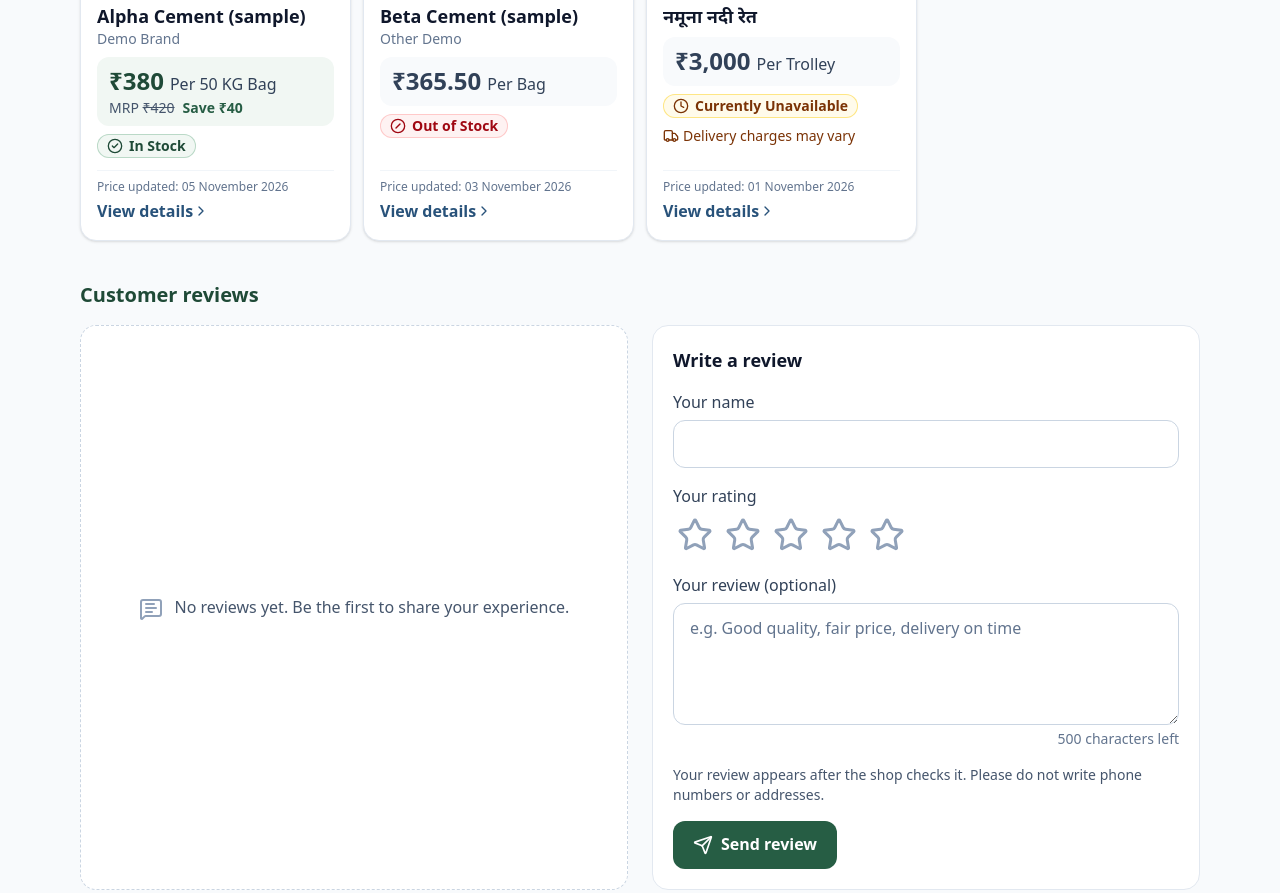
Shop photo, gallery and reviews below the products › explains when a review cannot be sent
(page scrolled)
In the field labelled "Your name": (926, 444) [673, 420, 1179, 468], type "Sample"
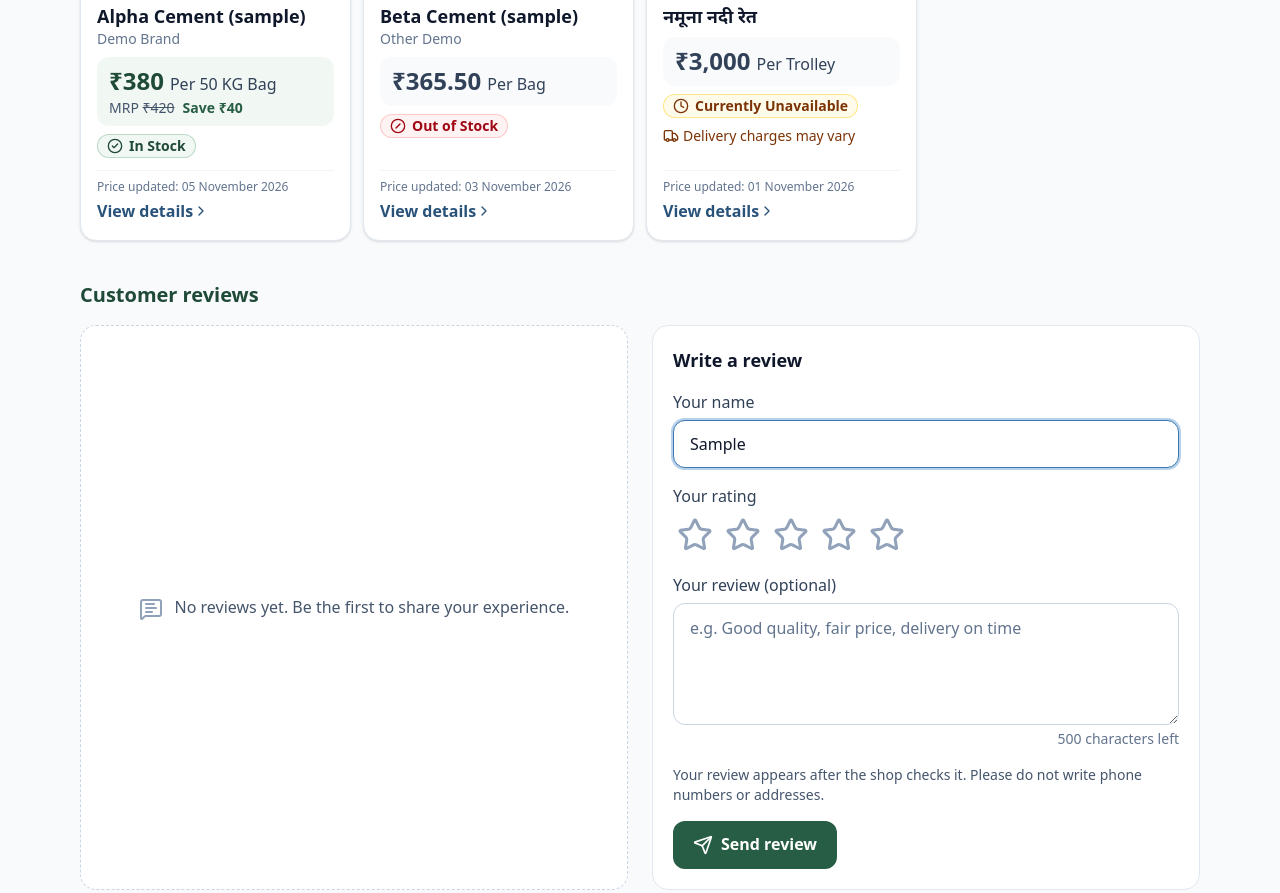
Click the radio button named "5 stars": click(887, 535) [865, 513, 909, 557]
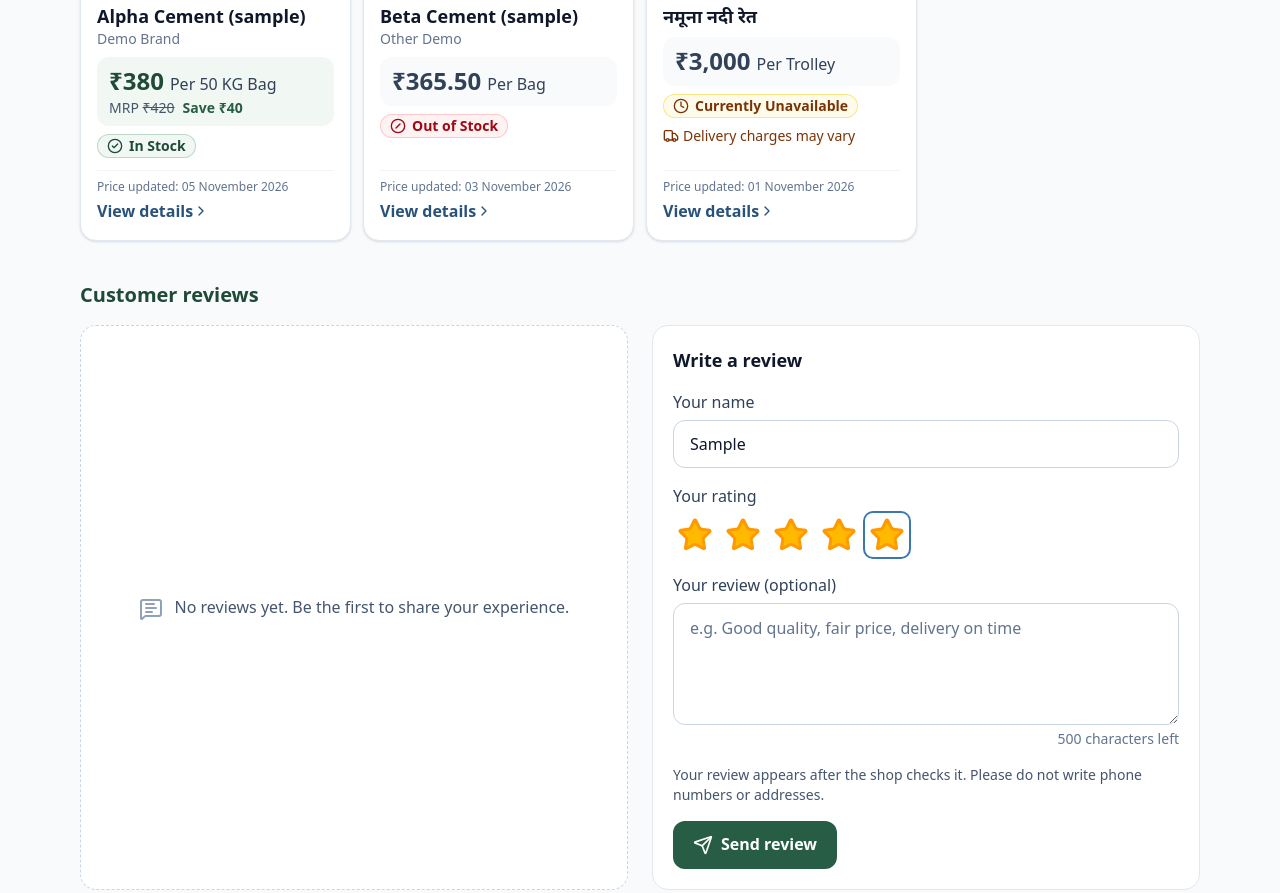
Click the button "Send review": click(755, 845) [673, 821, 837, 869]
(page scrolled)
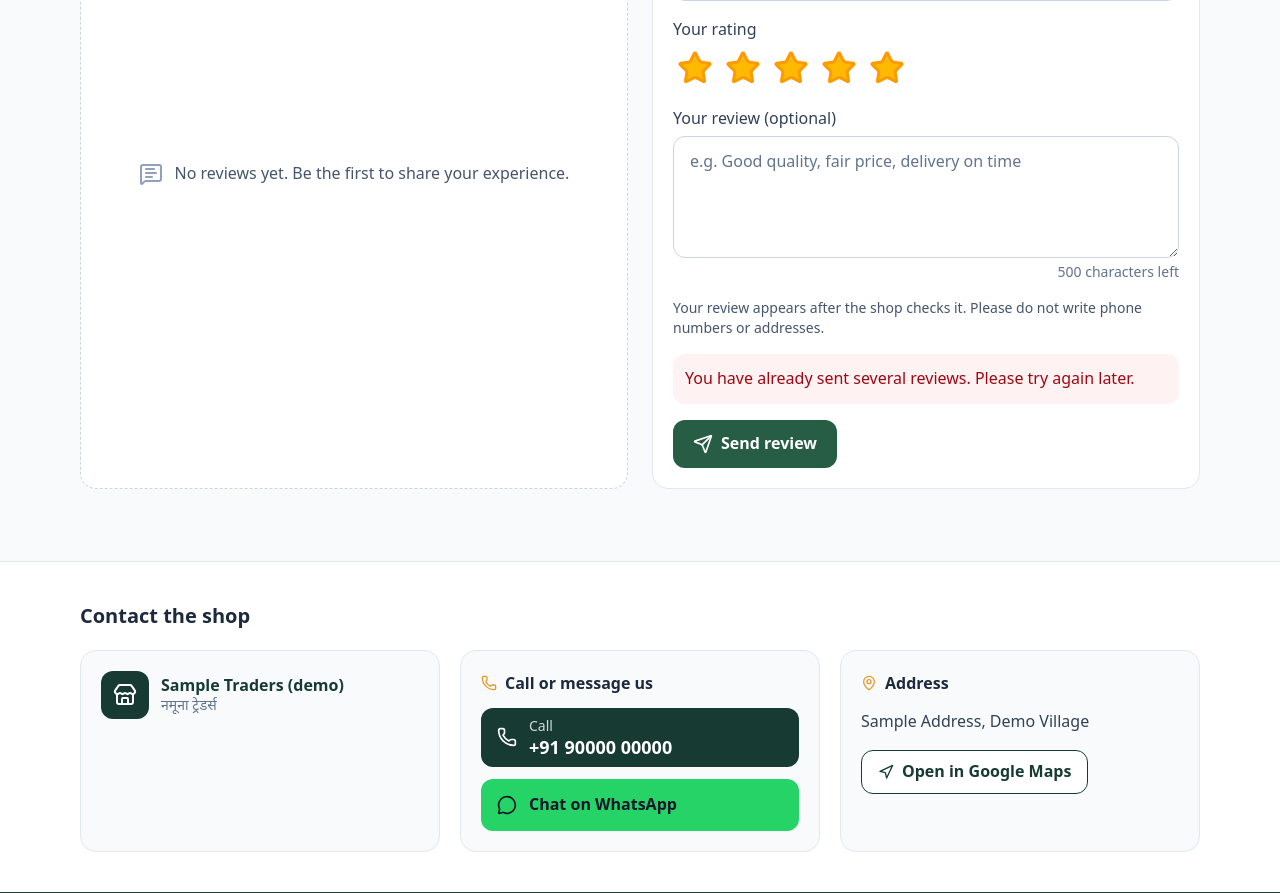
Result: the message reads "You have already sent several reviews. Please try again later." at [685, 367, 1134, 389]
Click the button "Send review": click(755, 444) [673, 420, 837, 468]
(page scrolled)
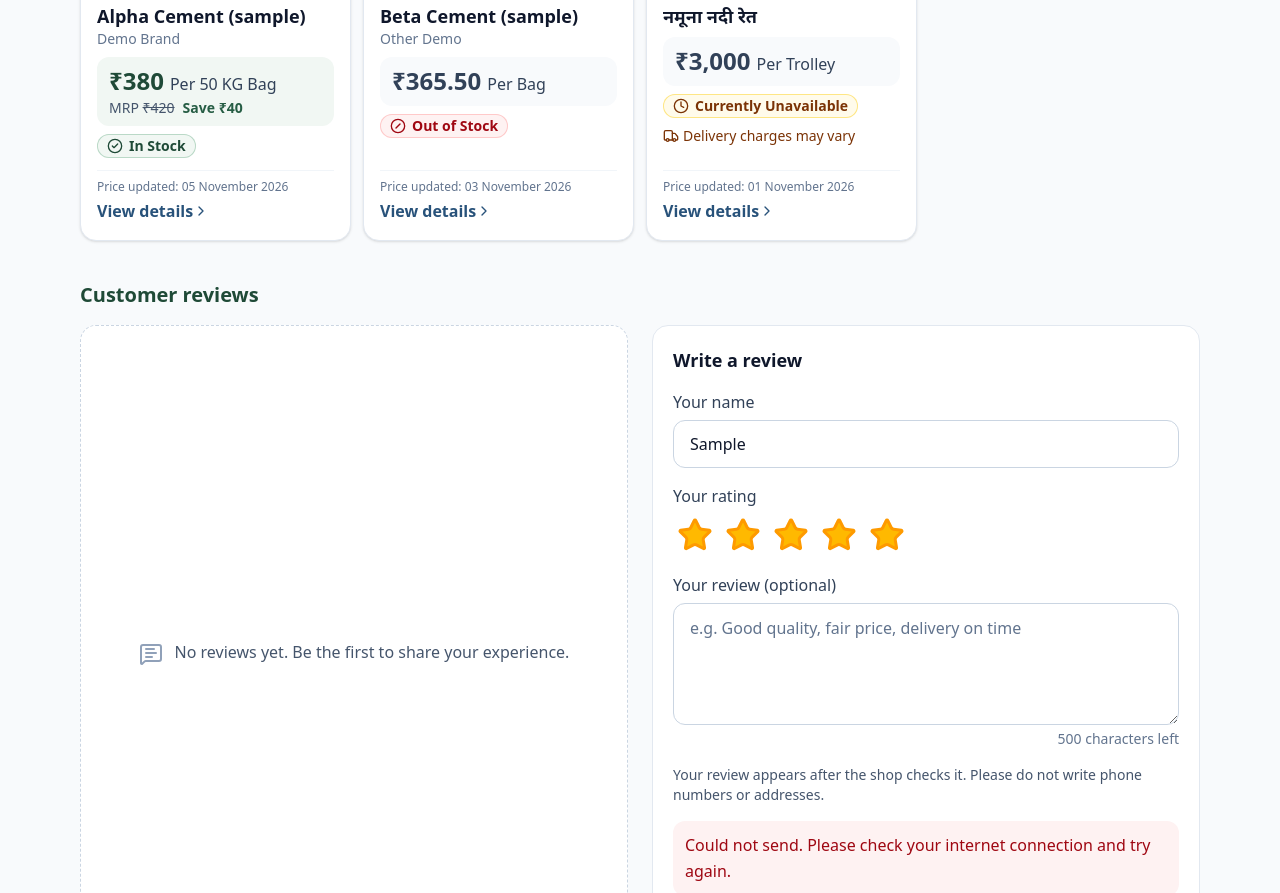
Result: the message shows "Could not send. Please check your internet connection" at [685, 834, 1150, 882]
